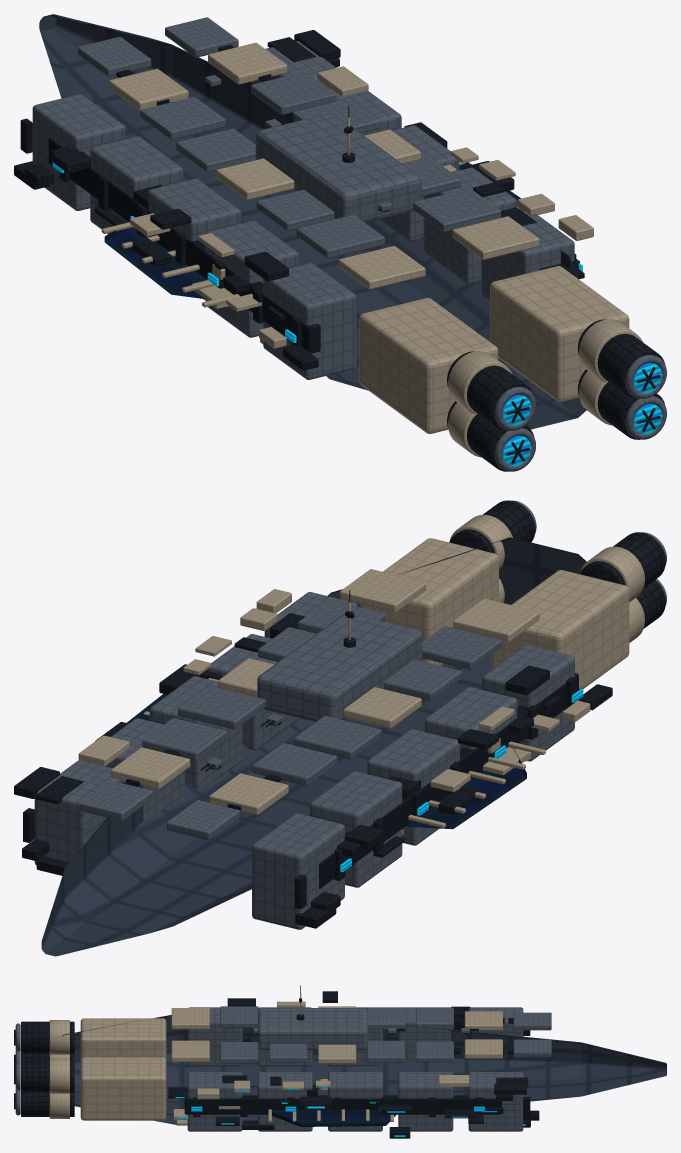
Rendered from aur-vigil-frigate.glb.
3 views of the same model, one above another, from view 1: azimuth 30°, elevation 25°; view 2: azimuth 150°, elevation 25°; view 3: azimuth 270°, elevation 25° (orthographic). The views are drawn at different scales.
Parts seen in each view (by area): view 1: Armored_Keel, Engine_Bank_L, Engine_Bank_R, Command_Bridge, Armor_Cassette_L_1, Armor_Cassette_L_5, Frigate_Service_Trench_L, Armor_Cassette_L_4, Armor_Cassette_L_2, Armor_Cassette_L_3, Armor_Cassette_R_2, Armor_Cassette_R_1 (+37 smaller); view 2: Armored_Keel, Command_Bridge, Engine_Bank_L, Engine_Bank_R, Armor_Cassette_L_5, Armor_Cassette_L_4, Armor_Cassette_R_5, Armor_Cassette_L_3, Armor_Cassette_L_1, Frigate_Service_Trench_L, Armor_Cassette_R_3, Armor_Cassette_L_2 (+30 smaller); view 3: Armored_Keel, Engine_Bank_R, Command_Bridge, Engine_Bank_L, Frigate_Service_Trench_R, Armor_Cassette_R_4, Armor_Cassette_R_5, Armor_Cassette_R_1, Armor_Cassette_R_3, Armor_Cassette_R_2, Radiator_Wing_R, Armor_Cassette_L_1 (+33 smaller).
Part boxes in pixels (x1,y1,x2,y2): Armored_Keel: (39, 14, 587, 429); Engine_Bank_L: (359, 298, 498, 433); Engine_Bank_R: (490, 266, 629, 401); Command_Bridge: (255, 113, 421, 222); Armor_Cassette_L_1: (263, 263, 356, 379); Armor_Cassette_L_5: (32, 94, 125, 210); Frigate_Service_Trench_L: (48, 138, 320, 353); Armor_Cassette_L_4: (90, 136, 183, 234); Armor_Cassette_L_2: (205, 221, 298, 337); Armor_Cassette_L_3: (148, 178, 241, 240); Armor_Cassette_R_2: (423, 167, 516, 284); Armor_Cassette_R_1: (481, 211, 574, 300); Armored_Keel: (41, 537, 586, 956); Command_Bridge: (257, 613, 422, 722); Engine_Bank_L: (490, 570, 629, 689); Engine_Bank_R: (360, 538, 498, 665); Armor_Cassette_L_5: (252, 813, 344, 929); Armor_Cassette_L_4: (309, 771, 402, 887); Armor_Cassette_R_5: (34, 760, 125, 865); Armor_Cassette_L_3: (367, 729, 459, 845); Armor_Cassette_L_1: (482, 645, 574, 761); Frigate_Service_Trench_L: (319, 673, 578, 888); Armor_Cassette_R_3: (149, 676, 242, 790); Armor_Cassette_L_2: (424, 687, 517, 749); Armored_Keel: (62, 1015, 666, 1124); Engine_Bank_R: (80, 1057, 166, 1120); Command_Bridge: (258, 1008, 367, 1050); Engine_Bank_L: (80, 1018, 166, 1059); Frigate_Service_Trench_R: (184, 1095, 501, 1114); Armor_Cassette_R_4: (398, 1072, 453, 1131); Armor_Cassette_R_5: (468, 1072, 523, 1131); Armor_Cassette_R_1: (187, 1072, 242, 1131); Armor_Cassette_R_3: (328, 1072, 382, 1131); Armor_Cassette_R_2: (258, 1072, 312, 1131); Radiator_Wing_R: (268, 1110, 396, 1126); Armor_Cassette_L_1: (187, 1007, 242, 1066).
Bounding box in the file's own units: 90.14 × 47.78 × 235.
7 materials, 6 textured.
